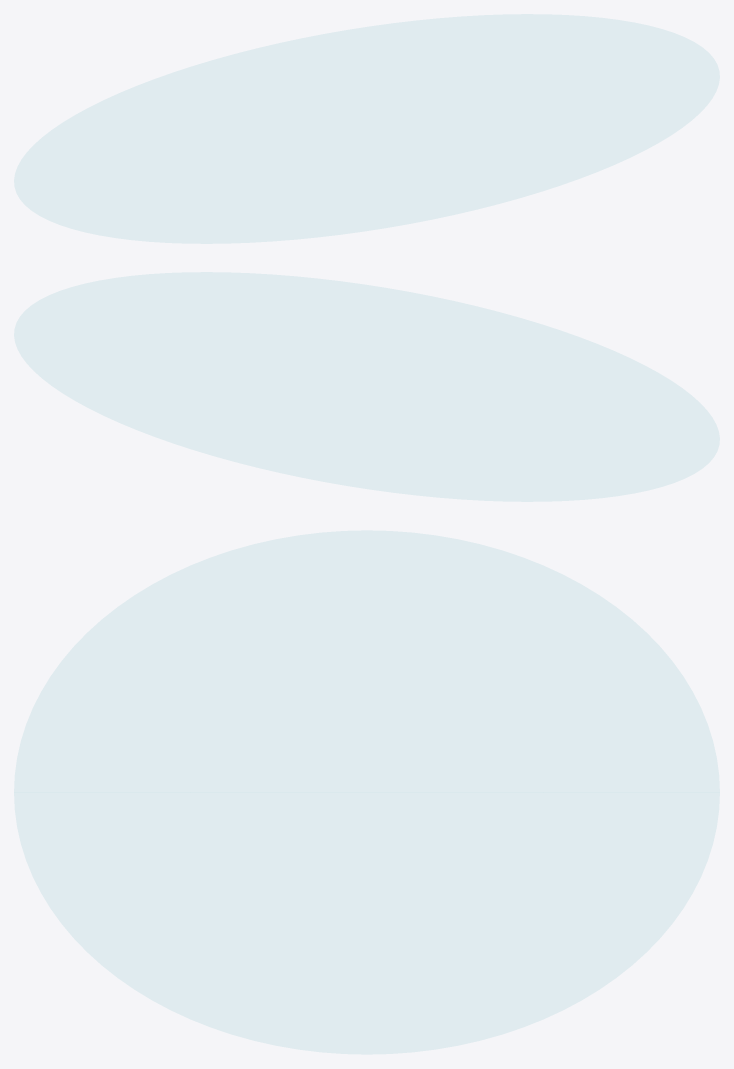
File: Weather_Lung_Water_Surface.glb
3 views of the same model, one above another, from view 1: azimuth 30°, elevation 25°; view 2: azimuth 150°, elevation 25°; view 3: azimuth 270°, elevation 25° (orthographic). The views are drawn at different scales.
Visible parts, largest first — view 1: Basin_Water_Surface; view 2: Basin_Water_Surface; view 3: Basin_Water_Surface.
Boxes of the visible parts, <box> form: Basin_Water_Surface: <box>14,14,719,243</box>; Basin_Water_Surface: <box>14,272,719,501</box>; Basin_Water_Surface: <box>14,530,719,1054</box>.
Bounding box in the file's own units: 19680 × 0 × 11200.
